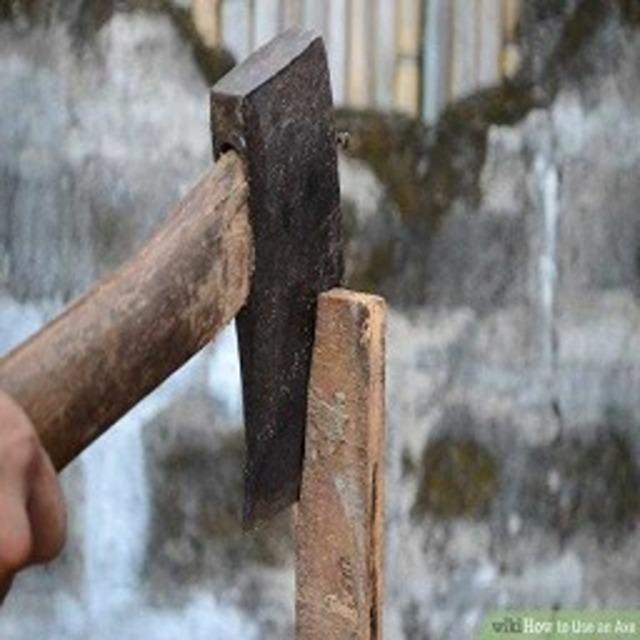ax: (1, 16, 358, 542)
